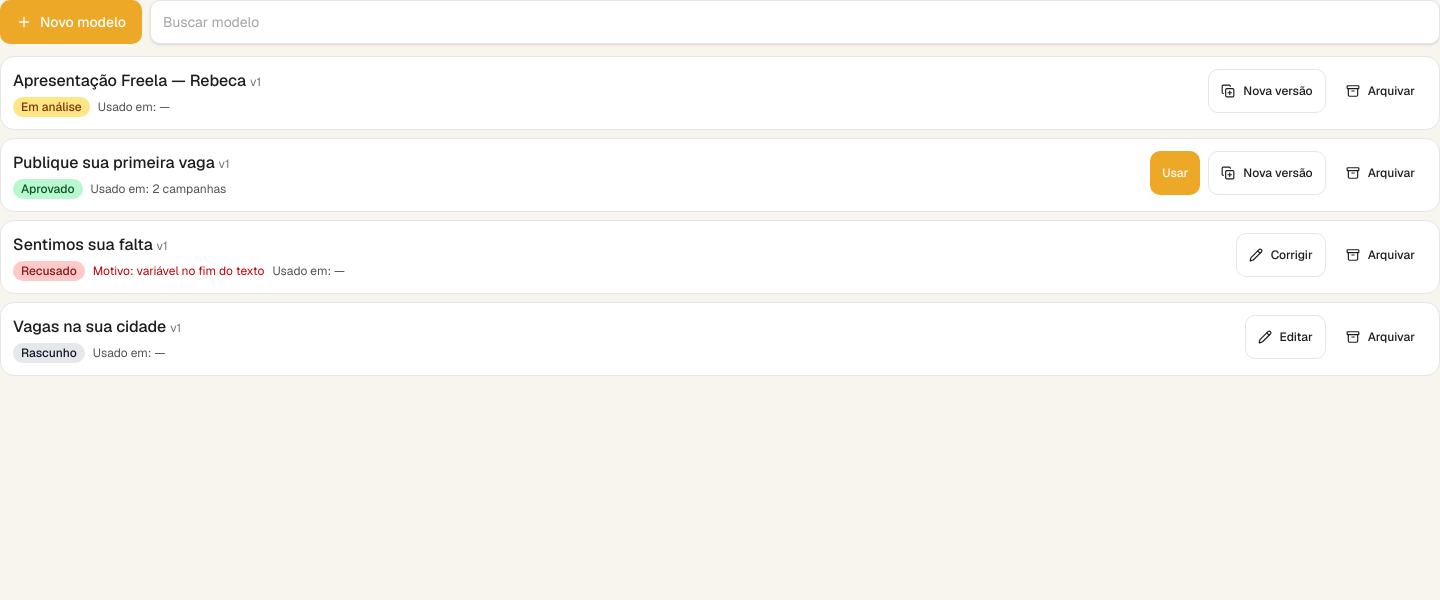
Test: MarketingTemplatesTab › Nova versão cria o rascunho e abre o editor nele
The width and height of the screenshot is (1440, 600).
Expected: the text "Publique sua primeira vaga" is shown, [13, 152, 215, 173]
What coordinates should you click on to do the following:
click the button "Nova versão" in the row of "Publique sua primeira vaga"
I would click on:
 (1267, 173)
Its box is [1208, 151, 1326, 195].
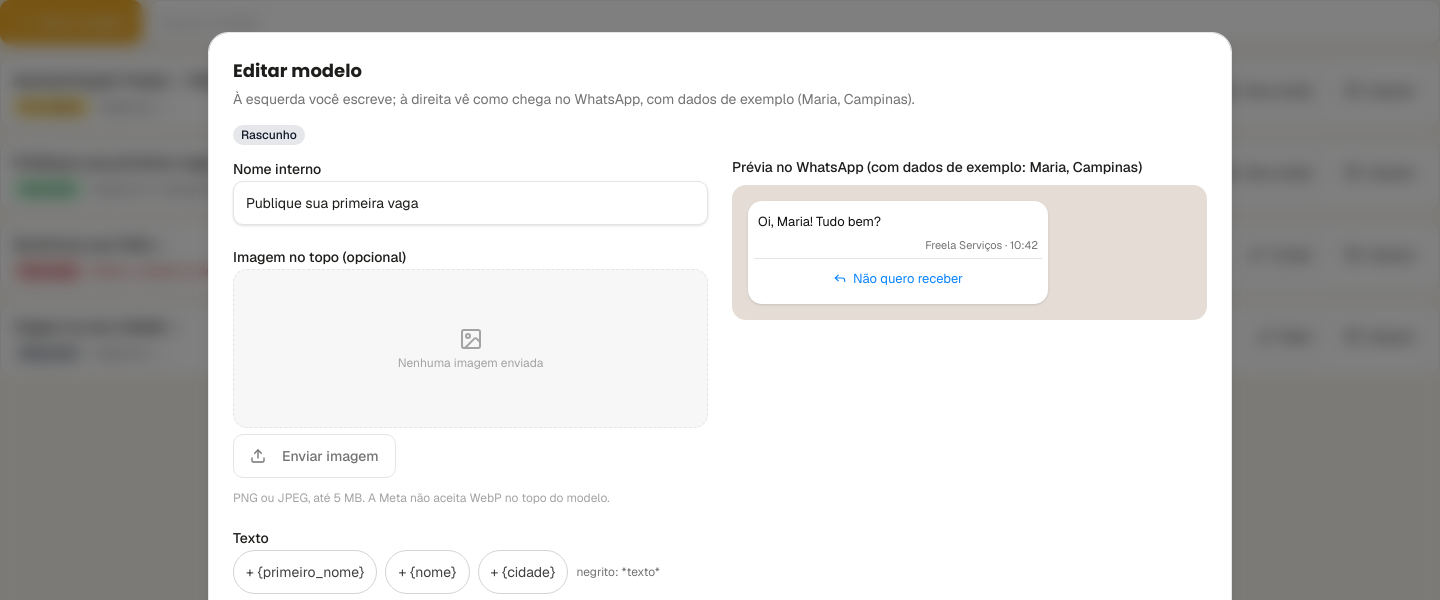
Now the heading "Editar modelo" is shown, box [233, 58, 362, 83]
Now the field labelled "Nome interno" holds "Publique sua primeira vaga", box [233, 181, 708, 225]
